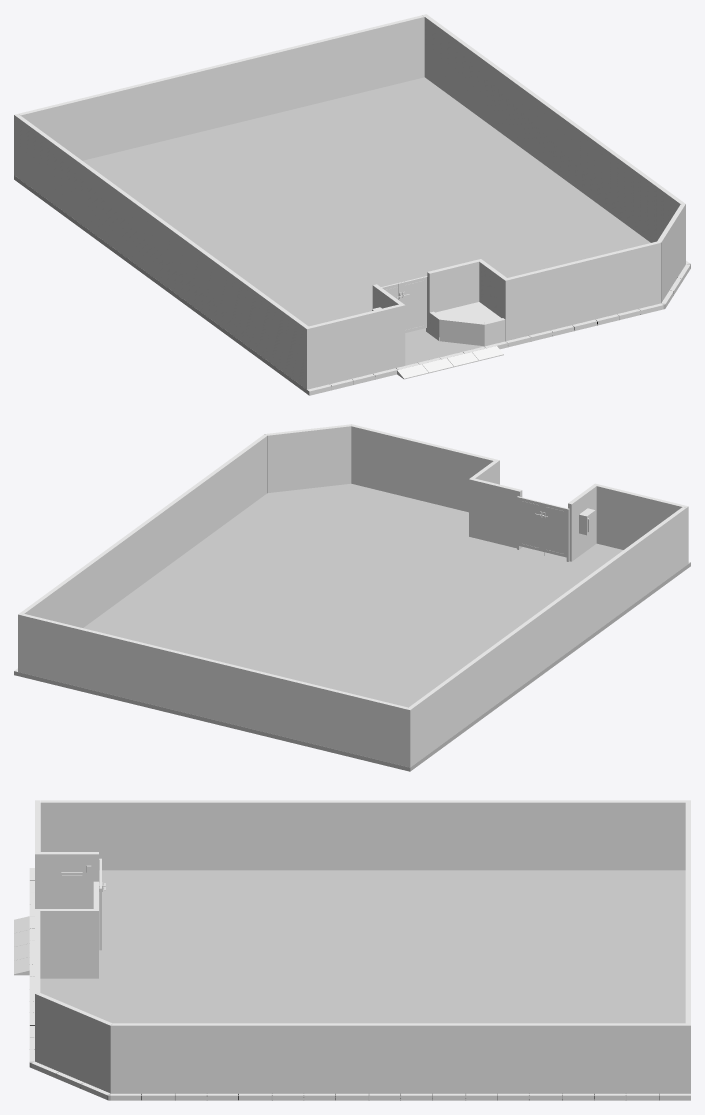
Rendered from Property_F2.fbx.
3 renders of one model, top to bottom at view 1: azimuth 30°, elevation 25°; view 2: azimuth 150°, elevation 25°; view 3: azimuth 270°, elevation 25°, orthographic. The views are drawn at different scales.
Visible parts, largest first — view 1: Ground.015, Wall.017, Wall.020, Wall.019, Wall.018, Door.375, Step.016; view 2: Ground.015, Wall.020, Wall.017, Wall.019, Wall.018, Door.374, Door.375; view 3: Ground.015, Wall.019, Wall.018, Wall.017, Wall.020, Step.016.
Boxes of the visible parts, x1,y1,x2,y2 form: Ground.015: [14, 77, 690, 395]; Wall.017: [304, 204, 685, 389]; Wall.020: [18, 15, 424, 160]; Wall.019: [14, 114, 308, 387]; Wall.018: [422, 14, 685, 242]; Door.375: [401, 276, 426, 332]; Step.016: [397, 346, 503, 379]; Ground.015: [14, 483, 690, 771]; Wall.020: [22, 614, 407, 766]; Wall.017: [264, 424, 688, 565]; Wall.019: [406, 507, 686, 767]; Wall.018: [18, 434, 267, 672]; Door.374: [542, 502, 567, 557]; Door.375: [519, 497, 543, 551]; Ground.015: [29, 868, 690, 1100]; Wall.019: [40, 800, 690, 870]; Wall.018: [110, 1023, 690, 1093]; Wall.017: [35, 800, 112, 1093]; Wall.020: [685, 802, 690, 1023]; Step.016: [14, 916, 29, 975].
Size of the model in its own units: 1010 by 150 by 1270.
